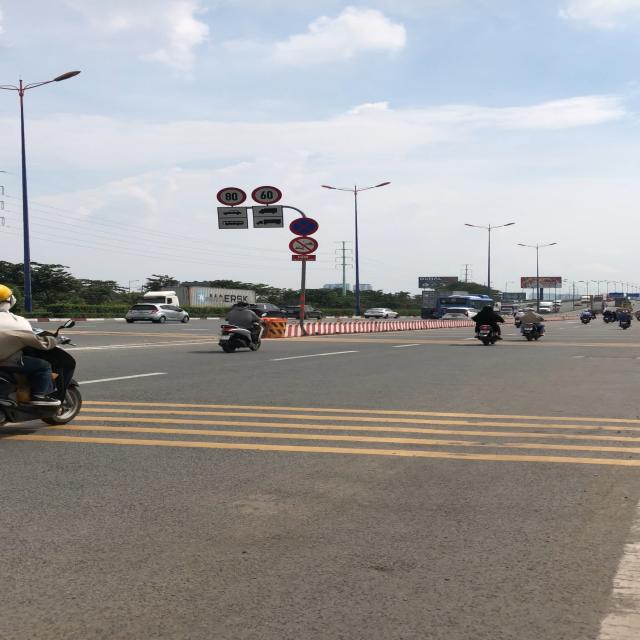Bien bao cam dung xe va do xe: (288, 217, 322, 237)
Bien bao toc do toi da cho phep: (214, 187, 248, 206), (250, 186, 284, 203)
